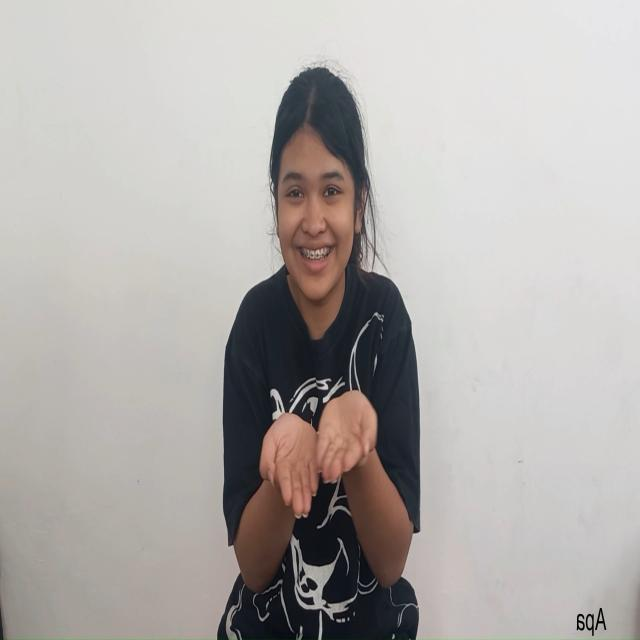Apa -BISINDO-: (230, 382, 416, 599)
